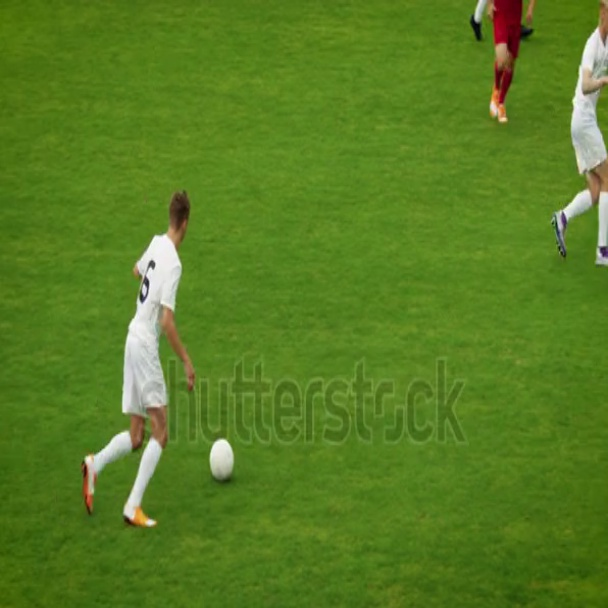ball: (206, 435, 237, 483)
